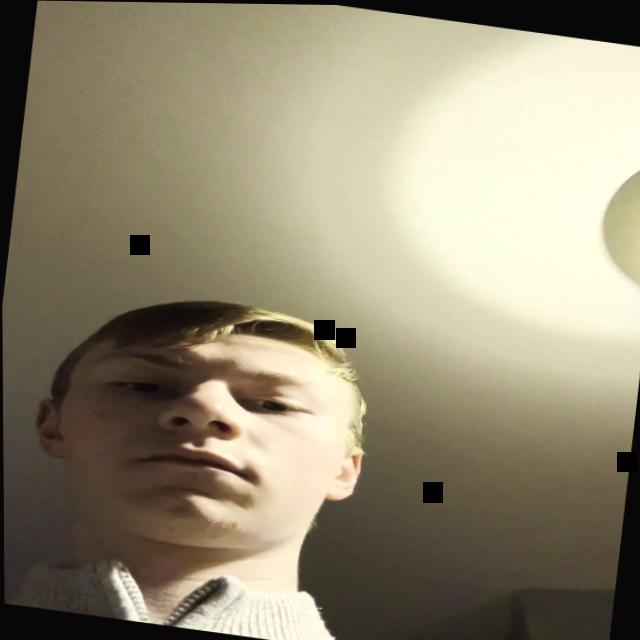NO-Mask: (12, 273, 382, 598)
